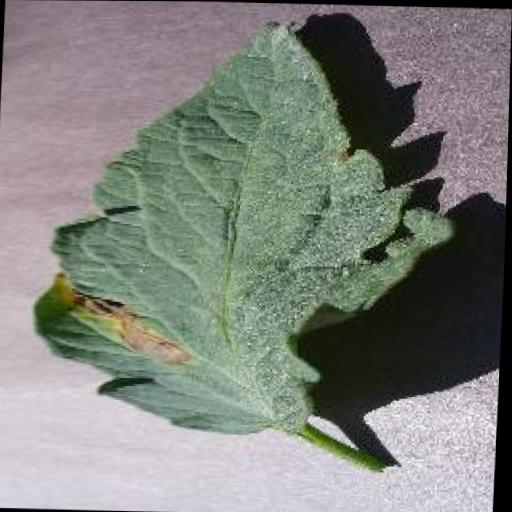Early Blight: (29, 20, 463, 439)
